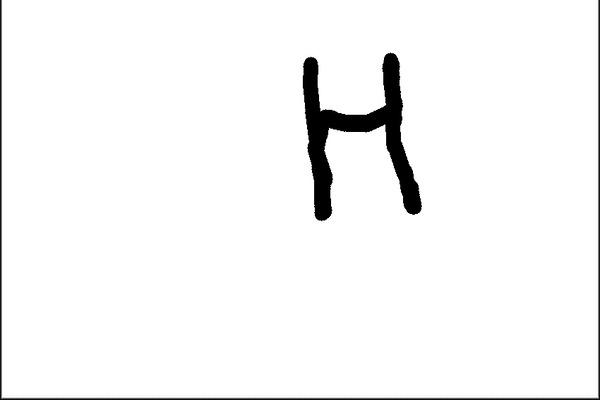H: (299, 51, 424, 223)
